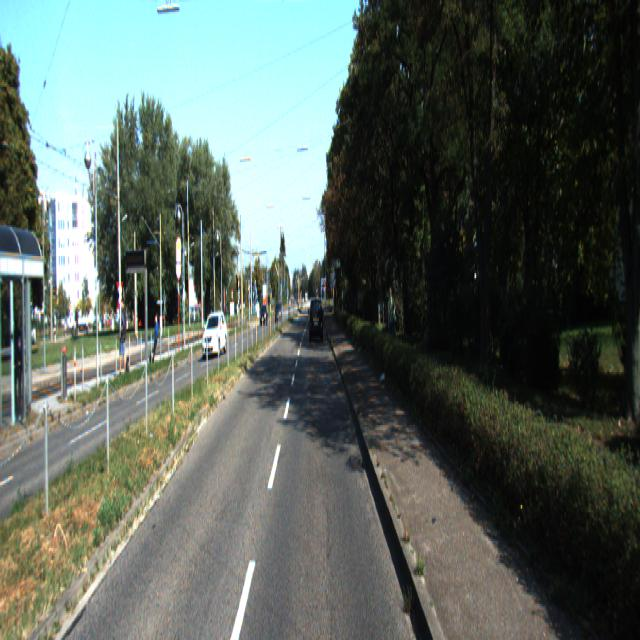Car: (203, 312, 227, 359), (309, 298, 324, 344)
